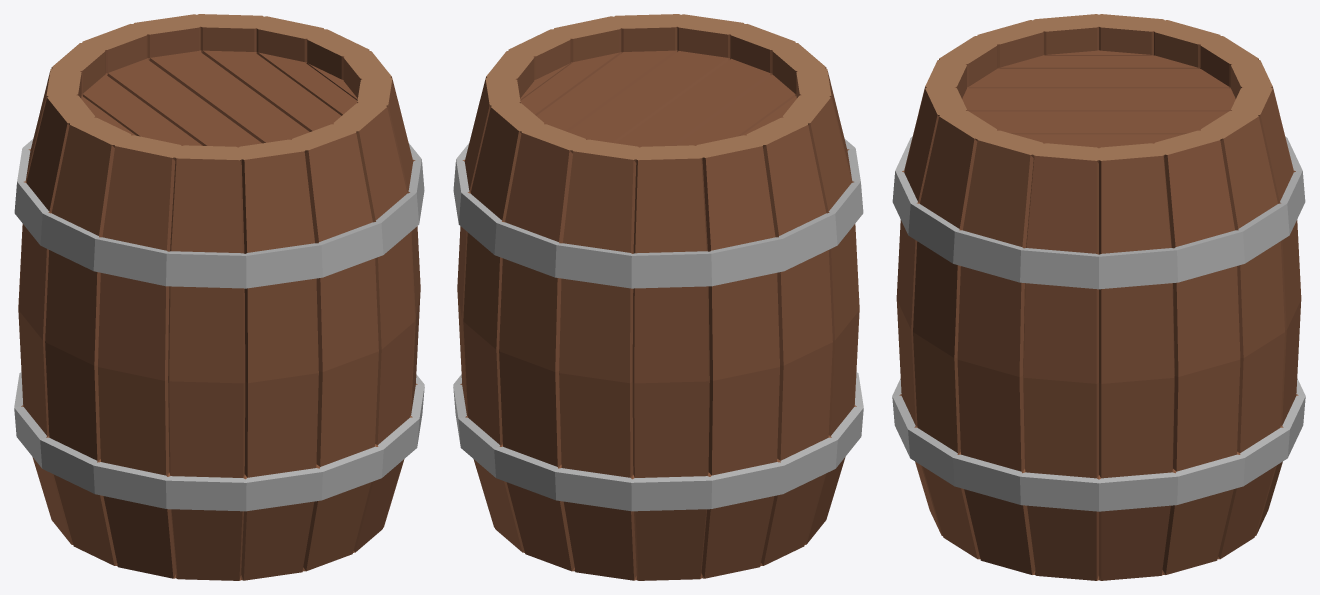
The model's file is Barrel.fbx.
3 views of the same model, side by side, from view 1: azimuth 30°, elevation 25°; view 2: azimuth 150°, elevation 25°; view 3: azimuth 270°, elevation 25° (orthographic).
Visible parts, largest first — view 1: Cylinder; view 2: Cylinder; view 3: Cylinder.
Part boxes in pixels (box(x1,y1,x2,y2)): Cylinder: box(14, 14, 424, 580); Cylinder: box(453, 14, 863, 580); Cylinder: box(892, 14, 1305, 580).
Bounding box in the file's own units: 15.75 × 17.75 × 15.75.
